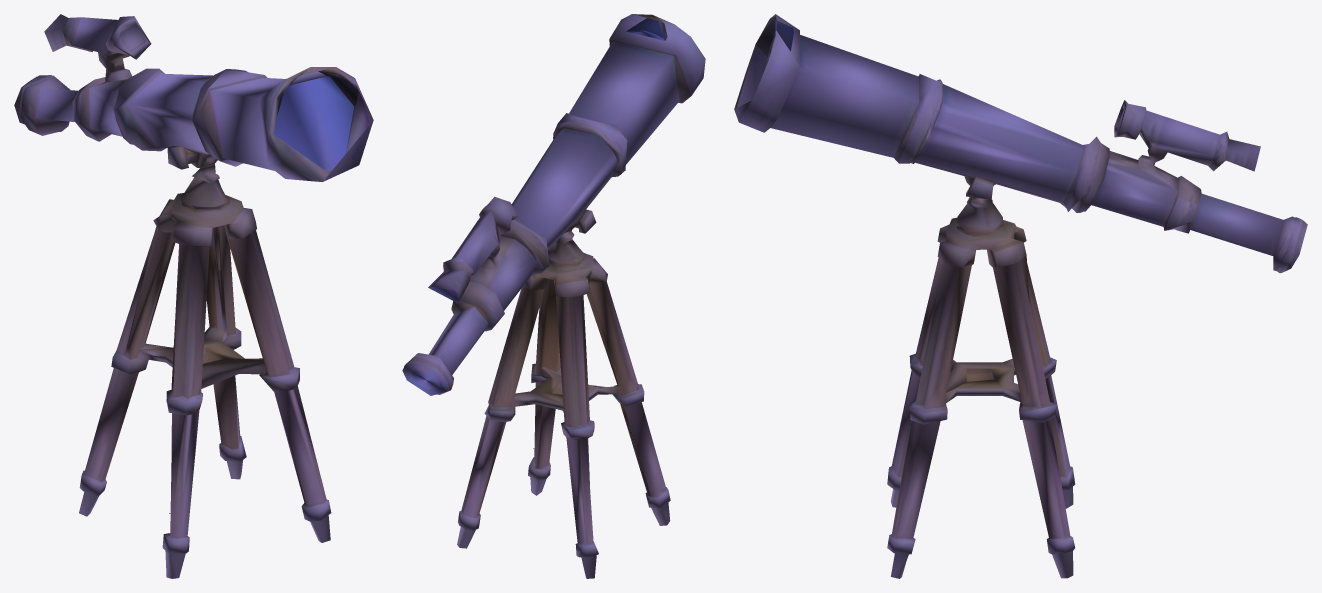
File: model.progressive.glb
3 views of the same model, side by side, from view 1: azimuth 30°, elevation 25°; view 2: azimuth 150°, elevation 25°; view 3: azimuth 270°, elevation 25° (orthographic). The views are drawn at different scales.
Parts seen in each view (by area): view 1: material; view 2: material; view 3: material.
Part boxes in pixels (bbox=[...]): material: bbox=[14, 14, 373, 578]; material: bbox=[402, 14, 705, 578]; material: bbox=[734, 14, 1307, 578].
Size of the model in its own units: 0.6014 by 1.9 by 1.89.
1 material, 1 textured.
